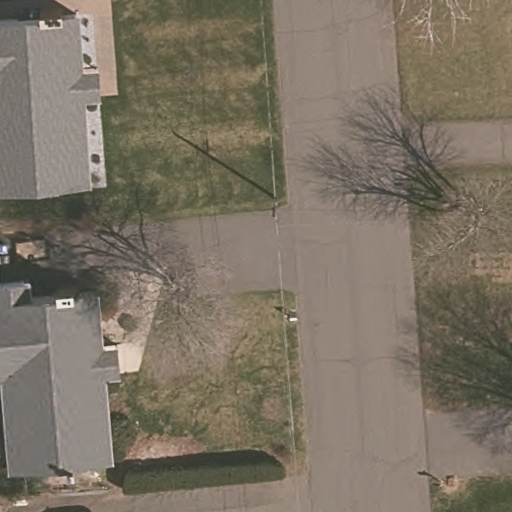DT: (269, 302, 306, 328)
